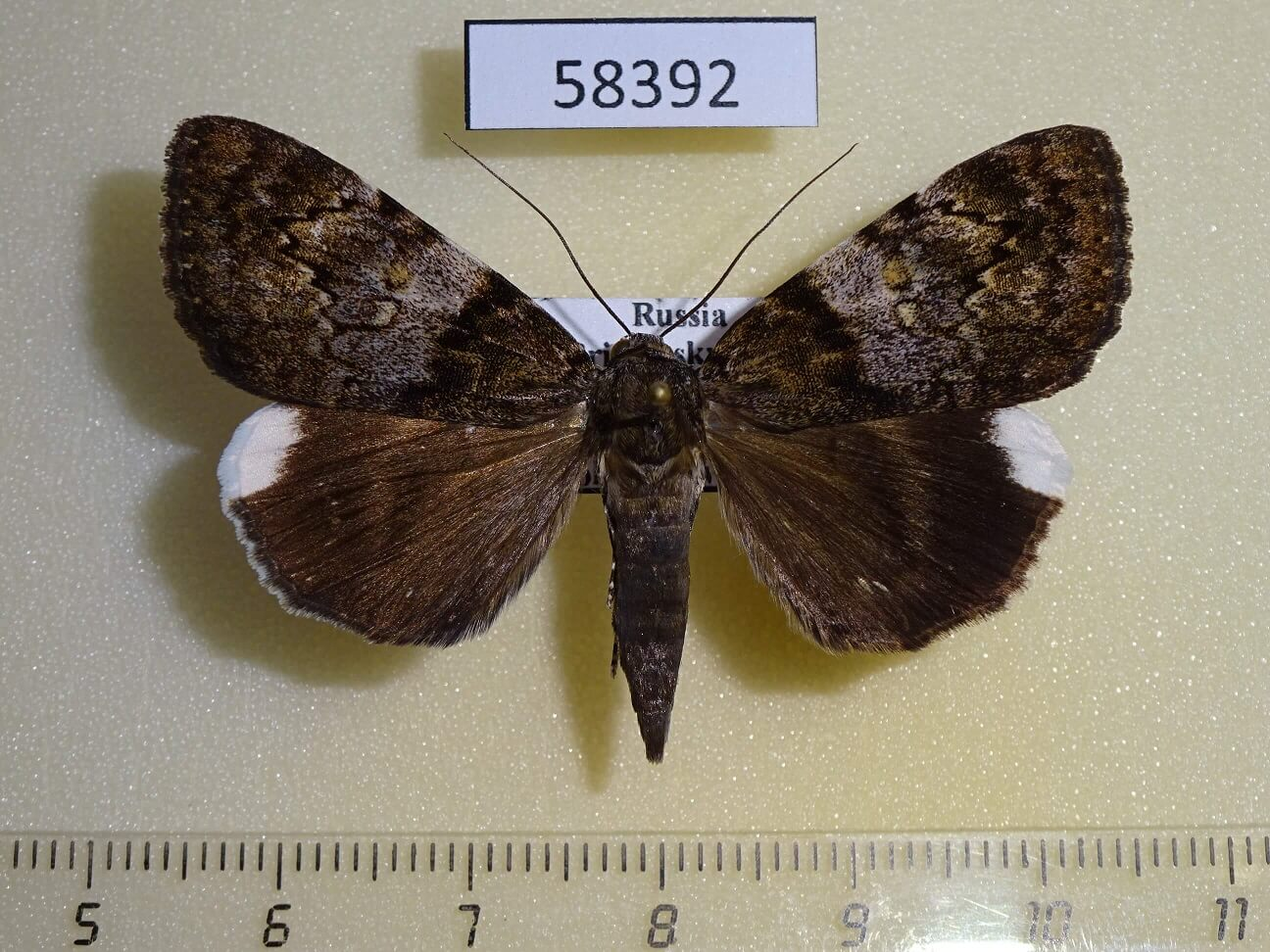Noctuidae: (159, 120, 1138, 764)
